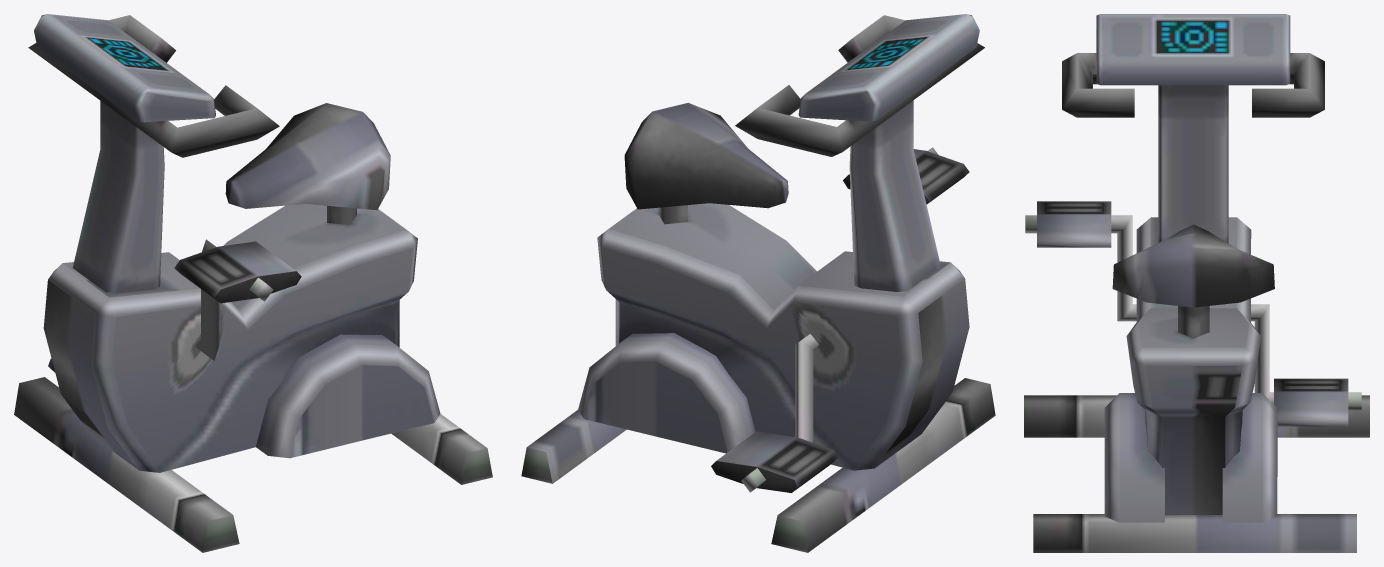
The model's file is int_fns_bike.dae.
3 renders of one model, left to right at view 1: azimuth 30°, elevation 25°; view 2: azimuth 150°, elevation 25°; view 3: azimuth 270°, elevation 25°, orthographic. The views are drawn at different scales.
Parts seen in each view (by area): view 1: int_fns_bike; view 2: int_fns_bike; view 3: int_fns_bike.
Boxes of the visible parts, bbox=[...] form: int_fns_bike: bbox=[14, 14, 492, 552]; int_fns_bike: bbox=[521, 14, 995, 552]; int_fns_bike: bbox=[1024, 14, 1369, 552].
Size of the model in its own units: 30.67 by 37.93 by 29.66.
Materials: 1 (1 with a texture image).
